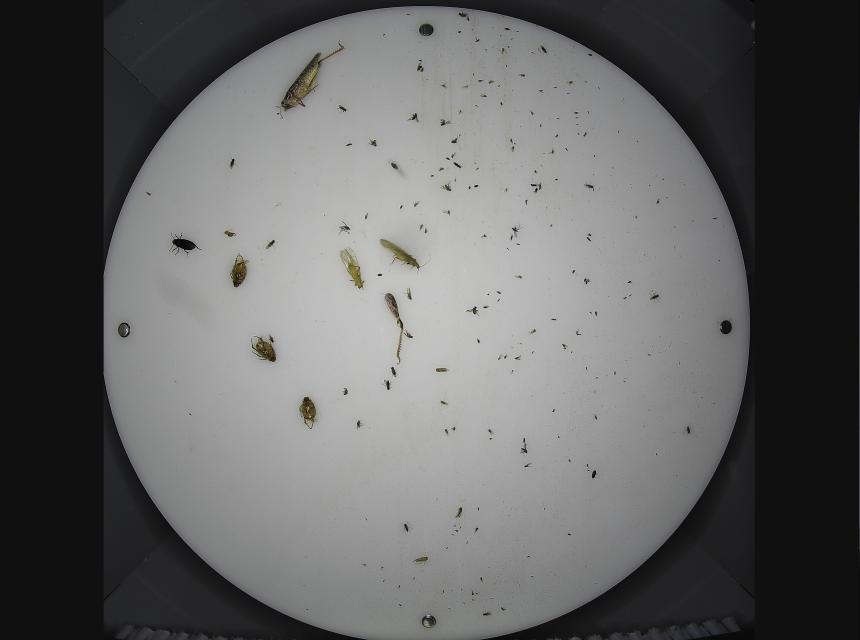insect: (379, 238, 424, 274), (338, 248, 366, 291), (168, 231, 204, 259), (248, 334, 278, 364), (230, 250, 248, 288), (299, 397, 319, 430), (412, 556, 429, 567), (454, 504, 464, 520), (402, 522, 413, 535), (389, 162, 402, 171), (434, 367, 450, 373)
locust: (276, 51, 324, 116)
skeeter: (337, 219, 352, 238), (510, 222, 526, 236), (582, 179, 595, 193), (265, 238, 277, 250), (381, 379, 393, 391), (438, 117, 452, 127), (440, 182, 453, 192), (648, 292, 660, 302), (519, 442, 529, 454), (336, 105, 350, 113), (485, 426, 496, 436), (457, 9, 468, 19), (389, 366, 398, 378), (539, 44, 548, 56), (438, 398, 449, 407), (340, 386, 348, 397), (355, 420, 364, 429), (529, 182, 542, 188), (450, 424, 456, 434), (443, 428, 450, 436)
